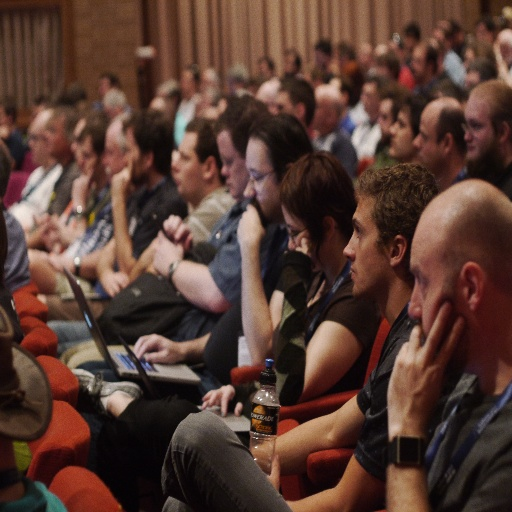hand: (385, 298, 476, 458), (282, 235, 313, 294), (147, 228, 183, 278), (199, 382, 248, 418), (131, 332, 186, 364), (235, 202, 268, 246), (160, 212, 194, 254), (69, 161, 100, 207), (109, 152, 136, 202), (36, 213, 67, 248), (100, 268, 131, 300), (259, 452, 280, 494), (40, 244, 67, 273)
